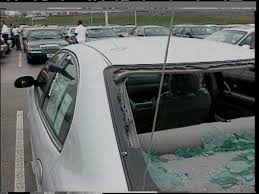Broken-glass: (115, 63, 259, 194)
